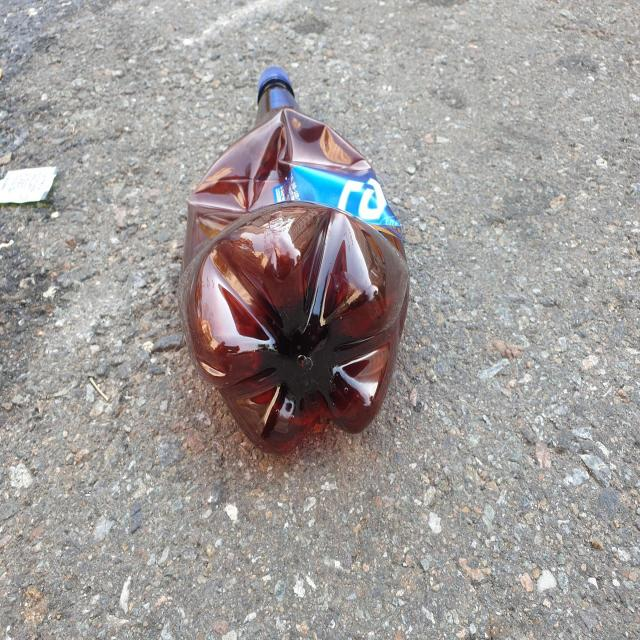plastic: (178, 66, 409, 454)
